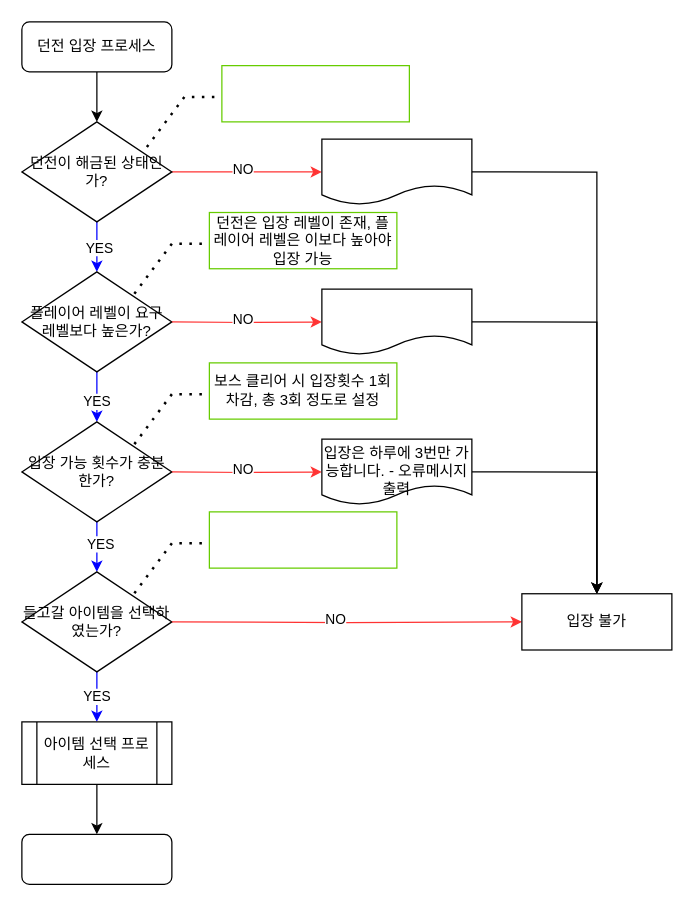
Some shapes in this 694 by 906 pixel diagram are drawn without their labels. The shapes that lost their labels are listed below. From the top down, each one's centre as x and y in pixels, then its label:
At pixel 315 93: "이전 단계의 던전을 클리어하면 다음 단계의 던전이 해금".
At pixel 396 171: "이전 던전을 클리어 하십시오 - 오류메시지 출력".
At pixel 396 321: "레벨을 만족하지 못했습니다. - 오류메시지 출력".
At pixel 302 539: "플레이어 레벨별로 던전에 들고갈 수 있는 아이템 개수가 정해짐".
At pixel 96 858: "현 프로세스 종료".
